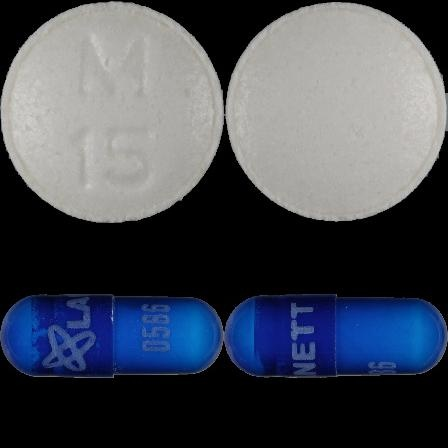54868-0032: (0, 0, 224, 224)
